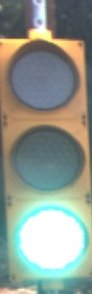Green: (3, 25, 92, 280)
